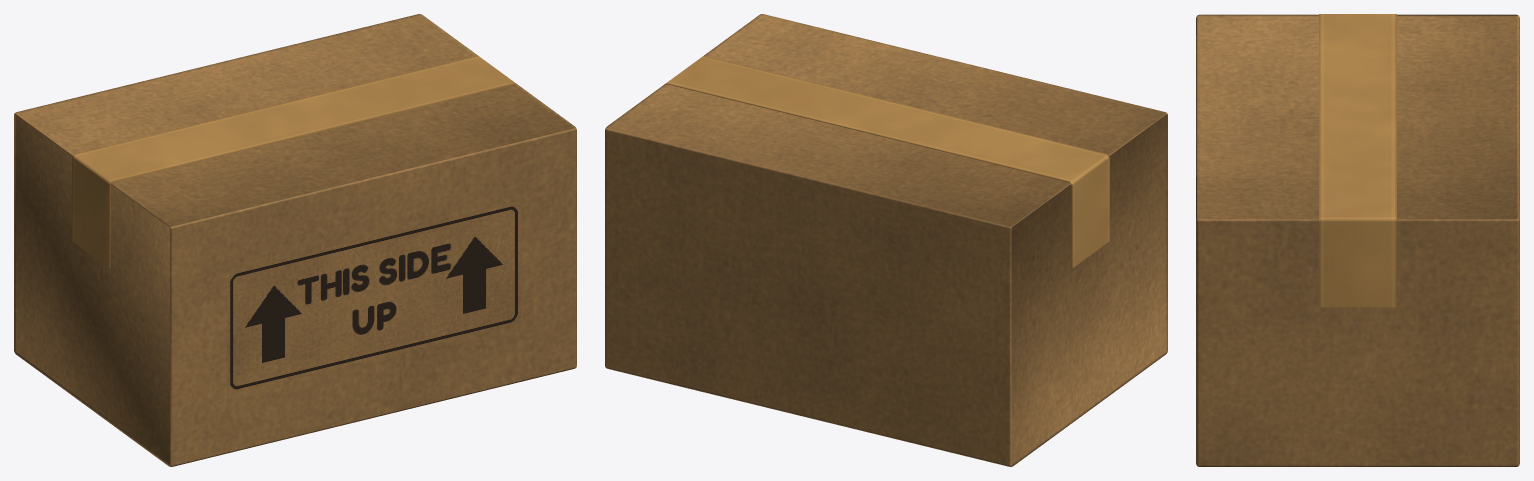
The model's file is sk_carton_s.glb.
3 views of the same model, side by side, from view 1: azimuth 30°, elevation 25°; view 2: azimuth 150°, elevation 25°; view 3: azimuth 270°, elevation 25° (orthographic). The views are drawn at different scales.
Visible parts, largest first — view 1: sk_carton_s; view 2: sk_carton_s; view 3: sk_carton_s.
Boxes of the visible parts, <box> form: sk_carton_s: <box>14,14,576,466</box>; sk_carton_s: <box>605,14,1167,466</box>; sk_carton_s: <box>1196,14,1519,466</box>.
Size of the model in its own units: 0.301 by 0.1705 by 0.2.
1 material, 1 textured.
